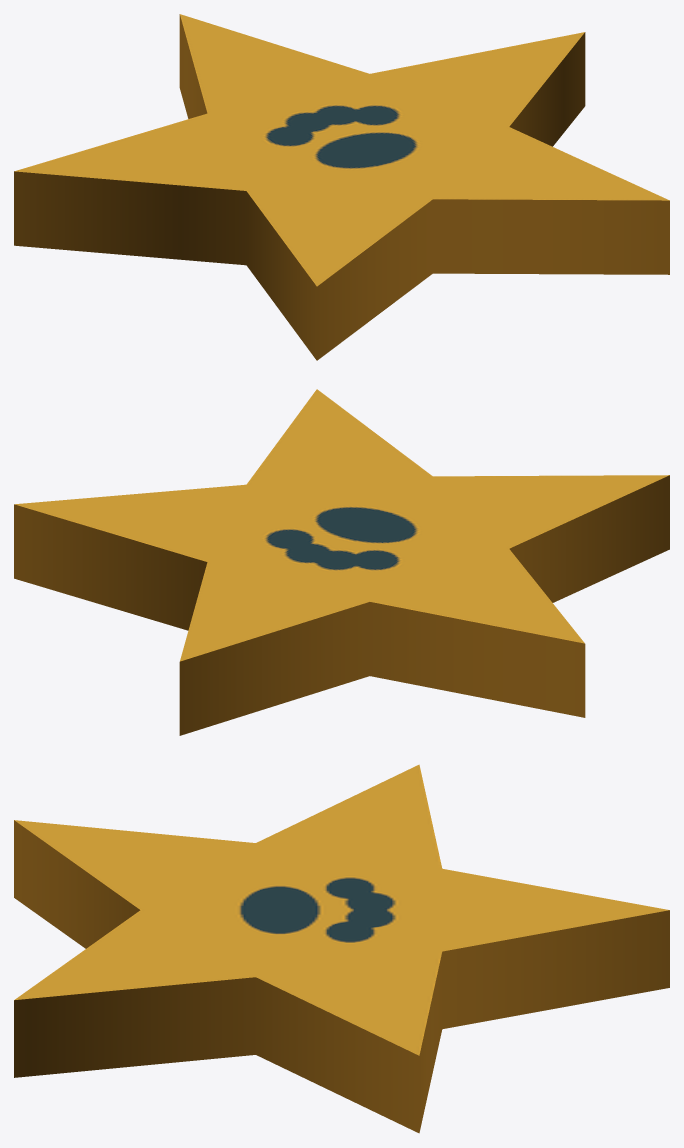
The model's file is achievement_token.glb.
The picture shows the model from 3 angles, top to bottom: view 1: azimuth 30°, elevation 25°; view 2: azimuth 150°, elevation 25°; view 3: azimuth 270°, elevation 25°; orthographic projection. The views are drawn at different scales.
Visible parts, largest first — view 1: achievement_token; view 2: achievement_token; view 3: achievement_token.
Boxes of the visible parts, x1=… form: achievement_token: x1=14, y1=14, x2=669, y2=360; achievement_token: x1=14, y1=389, x2=669, y2=735; achievement_token: x1=14, y1=764, x2=669, y2=1133.
Size of the model in its own units: 0.0322 by 0.004 by 0.0306.
Materials: 2 (1 with a texture image).
